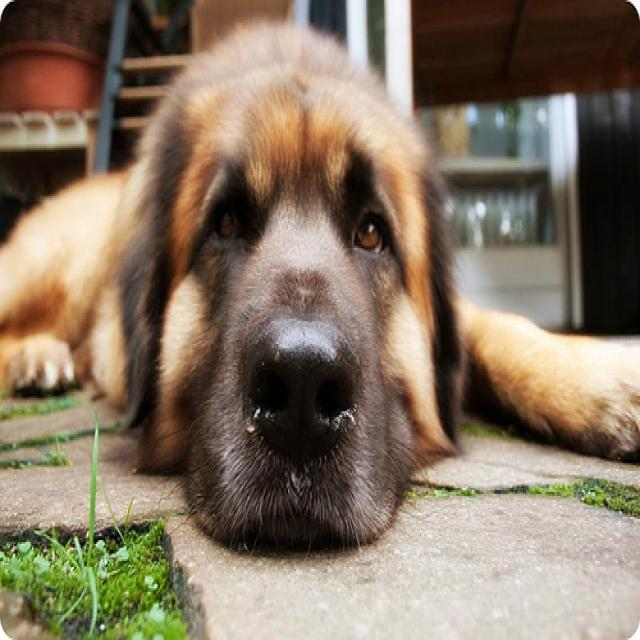dog-leonberger: (1, 2, 637, 571)
